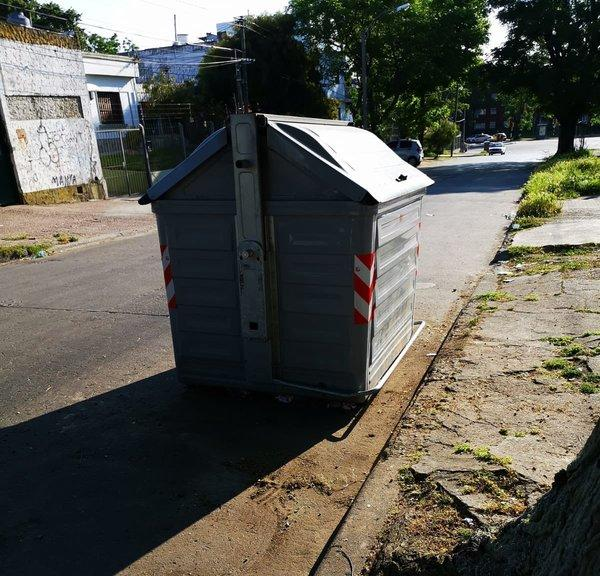Trash: (139, 113, 432, 398)
